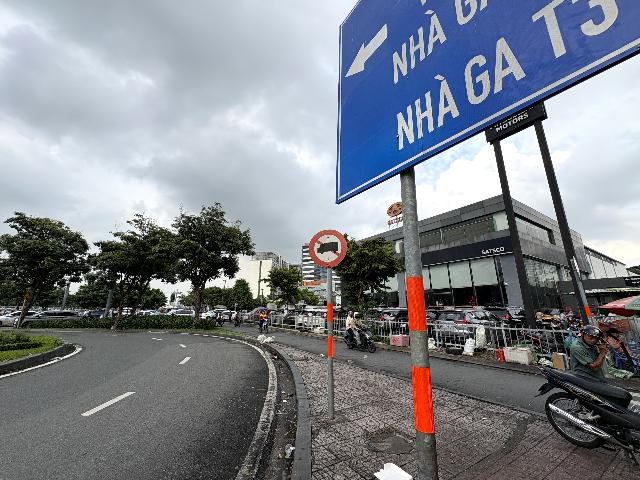cam-xe-tai: (309, 229, 347, 267)
